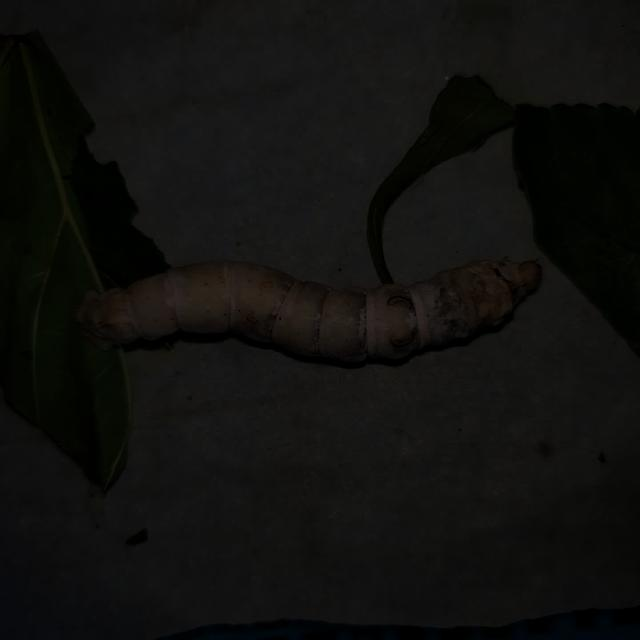Grasserie: (56, 220, 562, 394)
